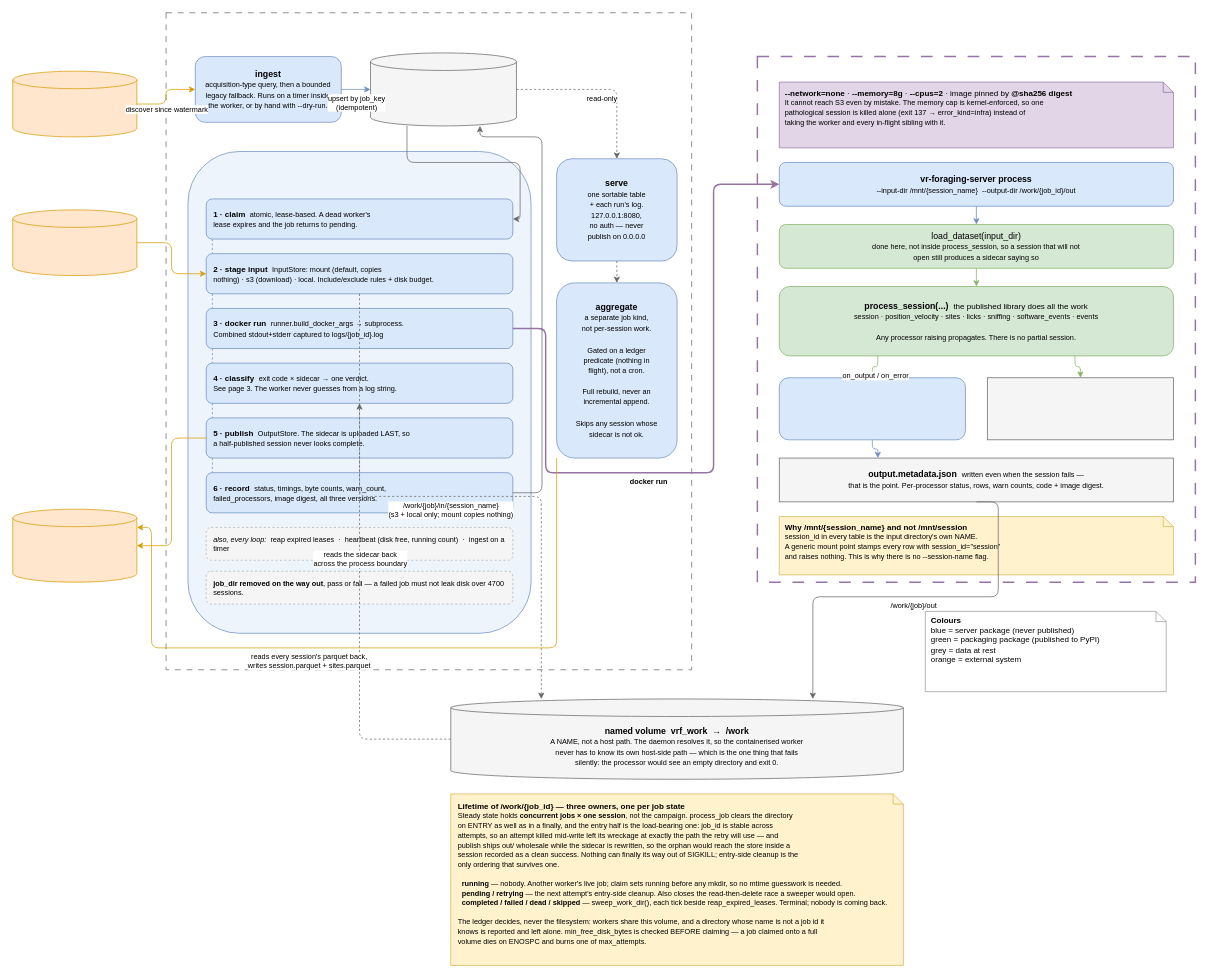
This 1209x978 diagram has some shape labels left out. The box of each missing label's shape, as (x1, y1, x2, y2) in pixels:
*.parquet provenance promoted into the parquet schema (+ optional .nwb.zarr): (987, 377, 1173, 440)
DocDB metadata_index / data_assets read-only, never written back: (12, 70, 137, 137)
EPHEMERAL CONTAINER · one per session · --rm: (756, 55, 1196, 583)
HOST · single-purpose box · mounts /var/run/docker.sock (root-equivalent): (165, 12, 692, 670)
ledger jobs.sqlite one row per (session, release, code fingerprint): (370, 52, 516, 126)
Output store s3://…/{release}/sessions/ or a local tree: (12, 508, 137, 582)
Raw sessions S3 prefix or mounted NAS: (12, 209, 137, 276)
SidecarRecorder subscribes to on_output and on_error. Records, then RE-RAISES.: (779, 377, 965, 440)
worker · one job at a time · run replicas for parallelism (the claim is atomic): (187, 151, 531, 633)
